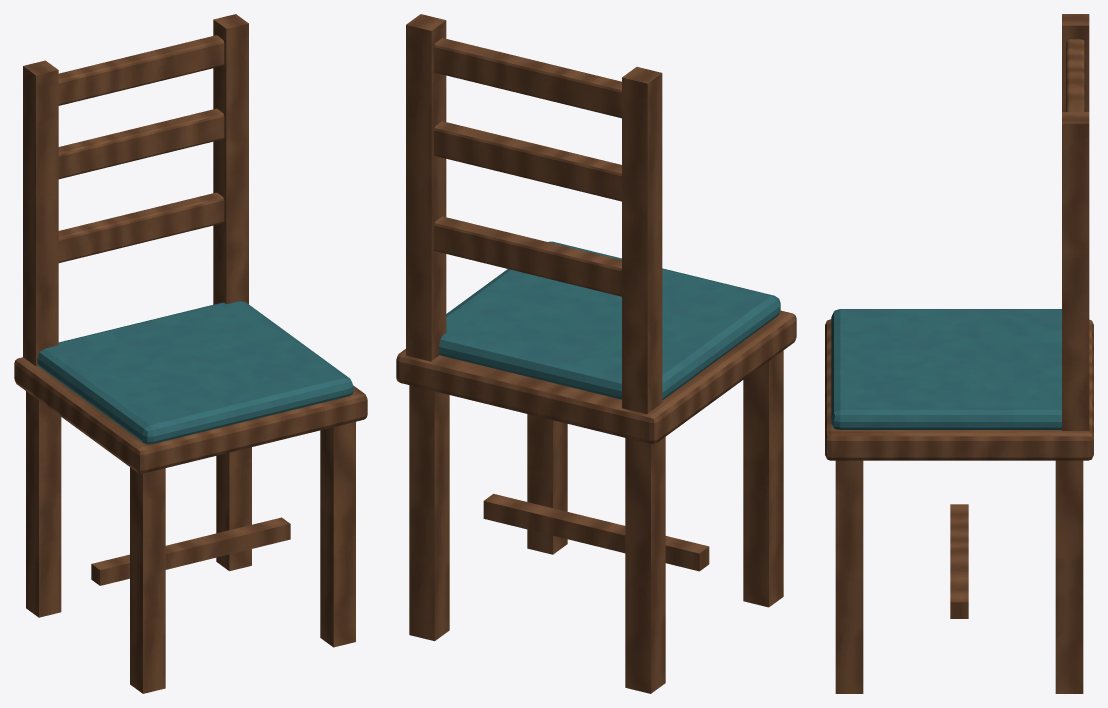
3 renders of one model, left to right at view 1: azimuth 30°, elevation 25°; view 2: azimuth 150°, elevation 25°; view 3: azimuth 270°, elevation 25°, orthographic. The views are drawn at different scales.
Parts seen in each view (by area): view 1: Decor_wooden_chair; view 2: Decor_wooden_chair; view 3: Decor_wooden_chair.
Part boxes in pixels (bbox=[...]): Decor_wooden_chair: bbox=[14, 14, 367, 693]; Decor_wooden_chair: bbox=[396, 14, 796, 693]; Decor_wooden_chair: bbox=[825, 14, 1093, 693].
Bounding box in the file's own units: 0.46 × 1.03 × 0.44.
2 materials, 2 textured.
